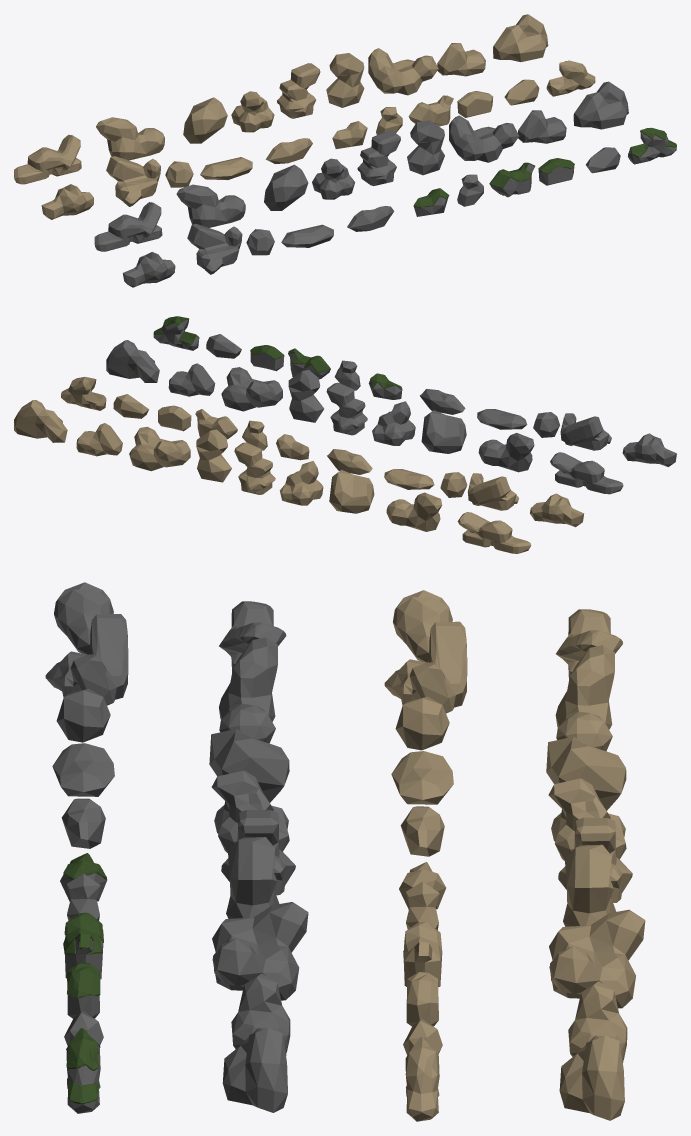
Rendered from low-poly_stone_pack.glb.
The picture shows the model from 3 angles, top to bottom: view 1: azimuth 30°, elevation 25°; view 2: azimuth 150°, elevation 25°; view 3: azimuth 270°, elevation 25°; orthographic projection. The views are drawn at different scales.
Parts seen in each view (by area): view 1: Mball.029_29, Mball.013_9, Mball.018_17, Mball.037_37, Mball.023_20, Mball.040_40, Mball.010_7, Mball.027_27, Mball.038_38, Mball.021_18, Mball.011_10, Mball.031_31 (+28 smaller); view 2: Mball.029_29, Mball.013_9, Mball.040_40, Mball.023_20, Mball.017_16, Mball.036_36, Mball.018_17, Mball.037_37, Mball.010_7, Mball.027_27, Mball.012_11, Mball.031_31 (+28 smaller); view 3: Mball.029_29, Mball.013_9, Mball.021_18, Mball.038_38, Mball.037_37, Mball.018_17, Mball.027_27, Mball.010_7, Mball.030_30, Mball.011_10, Mball.036_36, Mball.017_16 (+26 smaller).
Boxes of the visible parts, x1=… form: Mball.029_29: x1=368, y1=48, x2=438, y2=95; Mball.013_9: x1=449, y1=115, x2=519, y2=162; Mball.018_17: x1=176, y1=184, x2=245, y2=227; Mball.037_37: x1=96, y1=117, x2=164, y2=160; Mball.023_20: x1=94, y1=202, x2=162, y2=251; Mball.040_40: x1=14, y1=134, x2=81, y2=184; Mball.010_7: x1=573, y1=81, x2=628, y2=129; Mball.027_27: x1=493, y1=14, x2=548, y2=61; Mball.038_38: x1=106, y1=156, x2=160, y2=206; Mball.021_18: x1=187, y1=224, x2=242, y2=274; Mball.011_10: x1=407, y1=120, x2=444, y2=175; Mball.031_31: x1=277, y1=63, x2=320, y2=118; Mball.029_29: x1=129, y1=426, x2=190, y2=471; Mball.013_9: x1=221, y1=367, x2=282, y2=411; Mball.040_40: x1=457, y1=512, x2=531, y2=553; Mball.023_20: x1=550, y1=452, x2=623, y2=494; Mball.017_16: x1=421, y1=410, x2=466, y2=453; Mball.036_36: x1=329, y1=470, x2=374, y2=513; Mball.018_17: x1=478, y1=433, x2=534, y2=472; Mball.037_37: x1=386, y1=492, x2=441, y2=531; Mball.010_7: x1=106, y1=340, x2=159, y2=382; Mball.027_27: x1=14, y1=400, x2=67, y2=442; Mball.012_11: x1=326, y1=382, x2=367, y2=435; Mball.031_31: x1=234, y1=442, x2=275, y2=494; Mball.029_29: x1=549, y1=909, x2=645, y2=1008; Mball.013_9: x1=212, y1=902, x2=308, y2=1000; Mball.021_18: x1=45, y1=614, x2=128, y2=705; Mball.038_38: x1=384, y1=621, x2=467, y2=713; Mball.037_37: x1=555, y1=645, x2=614, y2=751; Mball.018_17: x1=219, y1=637, x2=277, y2=743; Mball.027_27: x1=559, y1=1035, x2=624, y2=1120; Mball.010_7: x1=222, y1=1027, x2=287, y2=1112; Mball.030_30: x1=563, y1=844, x2=616, y2=926; Mball.011_10: x1=226, y1=837, x2=279, y2=918; Mball.036_36: x1=546, y1=737, x2=626, y2=810; Mball.017_16: x1=209, y1=729, x2=289, y2=802.
Bounding box in the file's own units: 31.3 × 2.64 × 15.34.
